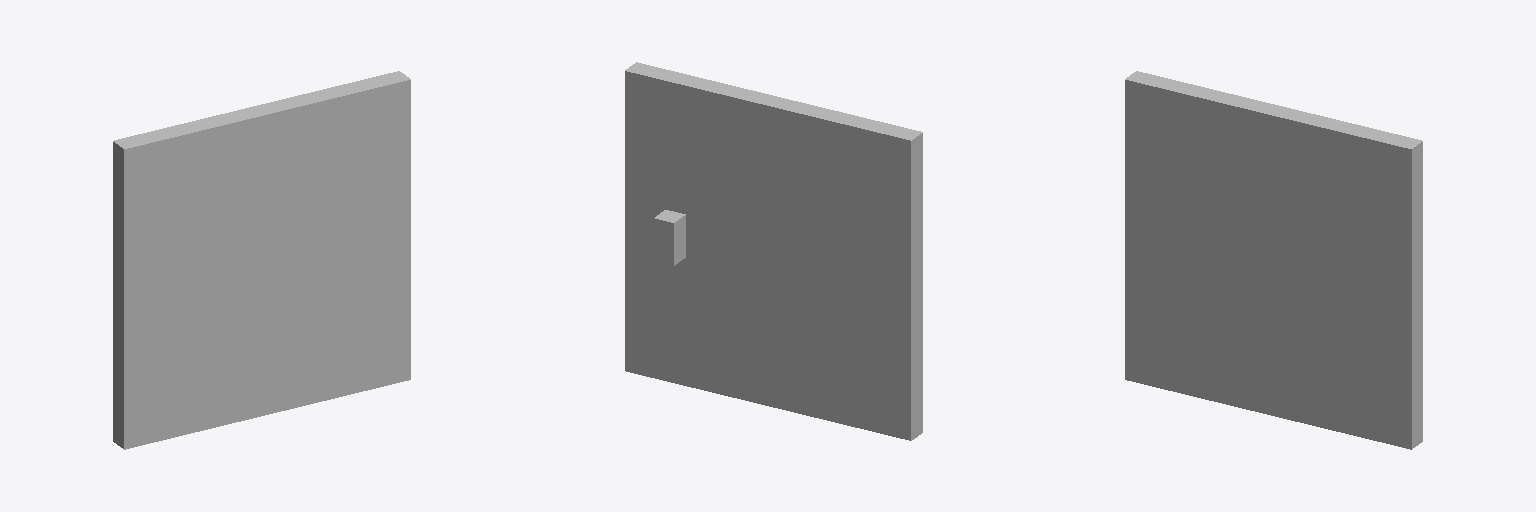
Rendered from locker_door_right.obj.
3 renders of one model, left to right at view 1: azimuth 30°, elevation 25°; view 2: azimuth 150°, elevation 25°; view 3: azimuth 330°, elevation 25°, orthographic.
Parts seen in each view (by area): view 1: locker_door_right; view 2: locker_door_right; view 3: locker_door_right.
Boxes of the visible parts, <box> form: locker_door_right: <box>113,71,410,449</box>; locker_door_right: <box>625,62,922,440</box>; locker_door_right: <box>1125,71,1422,449</box>.
Size of the model in its own units: 0.875 by 0.875 by 0.125.